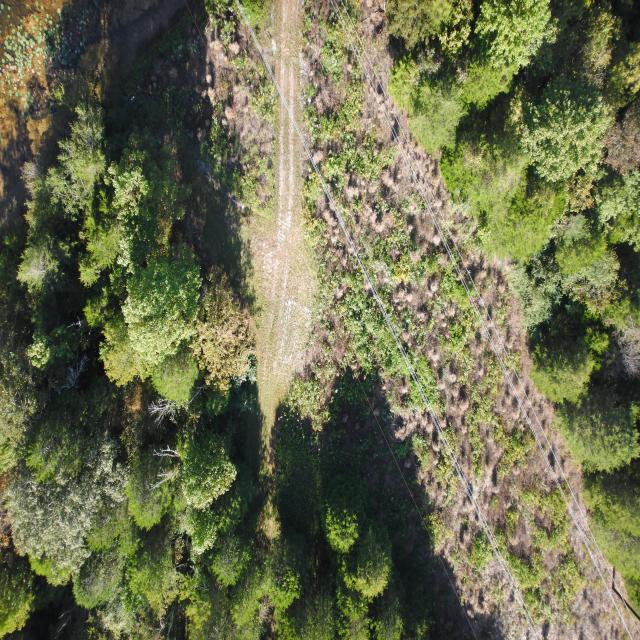Area of Interest: (3, 117, 402, 621), (393, 13, 625, 559)
